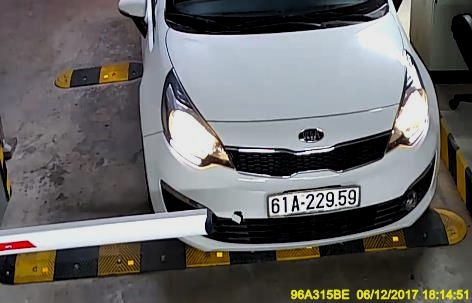plate: (265, 186, 364, 217)
